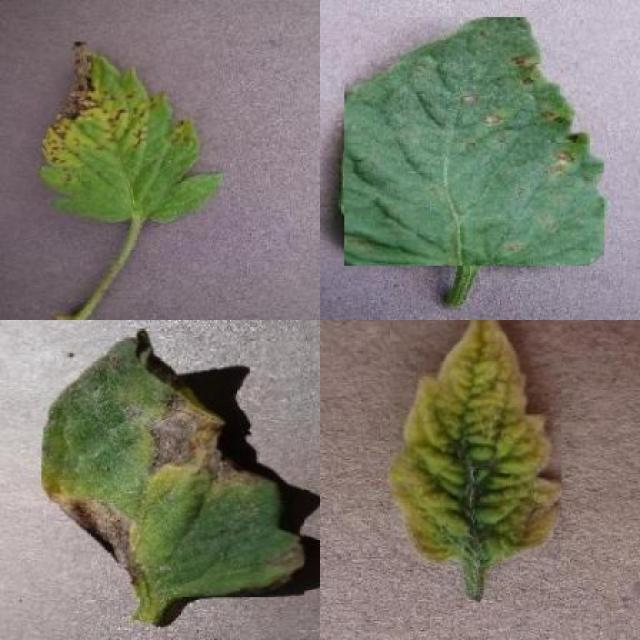Early Blight: (42, 329, 305, 597)
Septoria: (344, 18, 604, 266), (41, 42, 223, 227)
Yellow Leaf Curl Virus: (390, 320, 561, 566)
